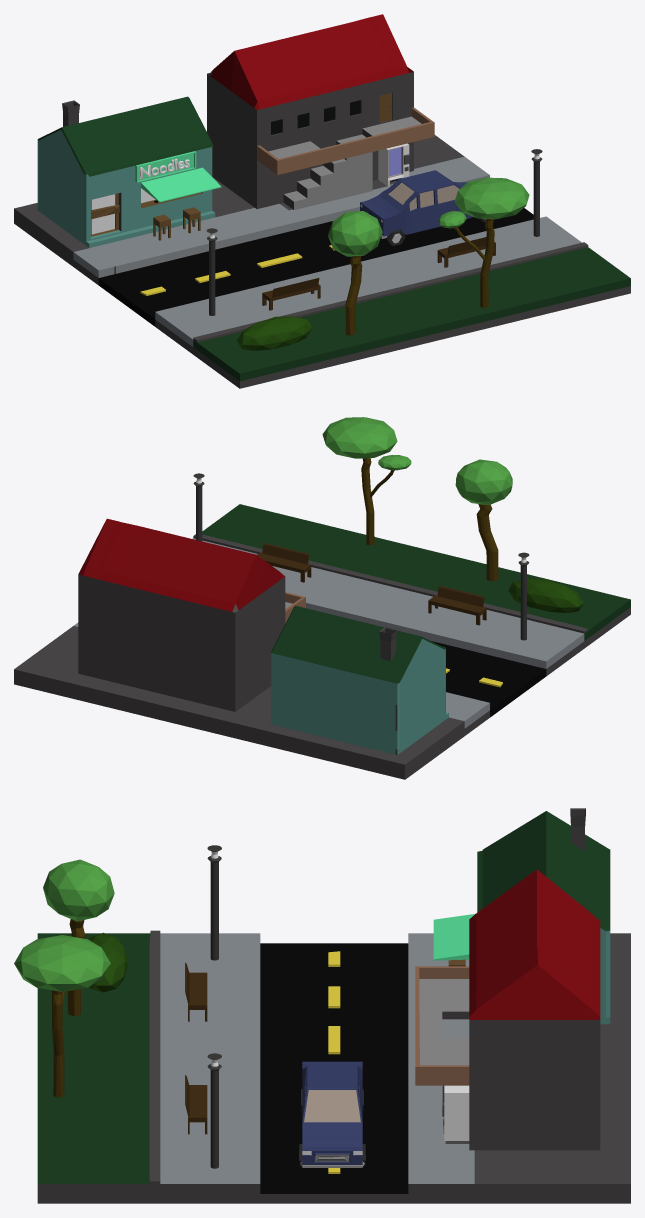
File: lowPolyIso.fbx
3 renders of one model, top to bottom at view 1: azimuth 30°, elevation 25°; view 2: azimuth 150°, elevation 25°; view 3: azimuth 270°, elevation 25°, orthographic. The views are drawn at different scales.
Visible parts, largest first — view 1: Calle, Edificio, Coche, Hojas1Arbol1, HojasArbol2, Arbusto, TroncoArbol2, Banco2, TroncoArbol1, Banco1, Farola2, Farola1; view 2: Calle, Edificio, Hojas1Arbol1, HojasArbol2, Arbusto, Banco2, Banco1, TroncoArbol2, TroncoArbol1, Farola1; view 3: Calle, Edificio, Coche, Hojas1Arbol1, HojasArbol2, Arbusto, TroncoArbol1, Farola1, Farola2, Banco2, Banco1, TroncoArbol2.
Boxes of the visible parts, bbox=[...] form: Calle: bbox=[14, 96, 630, 388]; Edificio: bbox=[207, 14, 434, 209]; Coche: bbox=[360, 170, 485, 245]; Hojas1Arbol1: bbox=[454, 177, 529, 219]; HojasArbol2: bbox=[328, 211, 382, 256]; Arbusto: bbox=[237, 316, 312, 350]; TroncoArbol2: bbox=[345, 256, 362, 335]; Banco2: bbox=[262, 278, 320, 310]; TroncoArbol1: bbox=[480, 219, 494, 307]; Banco1: bbox=[437, 236, 495, 267]; Farola2: bbox=[531, 149, 542, 236]; Farola1: bbox=[206, 228, 217, 315]; Calle: bbox=[14, 504, 630, 779]; Edificio: bbox=[78, 518, 305, 711]; Hojas1Arbol1: bbox=[322, 417, 397, 458]; HojasArbol2: bbox=[455, 459, 512, 505]; Arbusto: bbox=[508, 579, 583, 612]; Banco2: bbox=[428, 585, 486, 625]; Banco1: bbox=[257, 543, 311, 582]; TroncoArbol2: bbox=[476, 504, 498, 581]; TroncoArbol1: bbox=[361, 458, 374, 545]; Farola1: bbox=[518, 552, 529, 640]; Calle: bbox=[37, 808, 630, 1203]; Edificio: bbox=[415, 869, 600, 1150]; Coche: bbox=[299, 1061, 365, 1167]; Hojas1Arbol1: bbox=[14, 935, 110, 991]; HojasArbol2: bbox=[43, 859, 114, 921]; Arbusto: bbox=[88, 932, 128, 992]; TroncoArbol1: bbox=[52, 990, 64, 1097]; Farola1: bbox=[207, 845, 221, 960]; Farola2: bbox=[207, 1053, 221, 1168]; Banco2: bbox=[185, 962, 207, 1021]; Banco1: bbox=[185, 1075, 207, 1134]; TroncoArbol2: bbox=[67, 919, 84, 1016].
Bounding box in the file's own units: 1076 × 405 × 1119.
